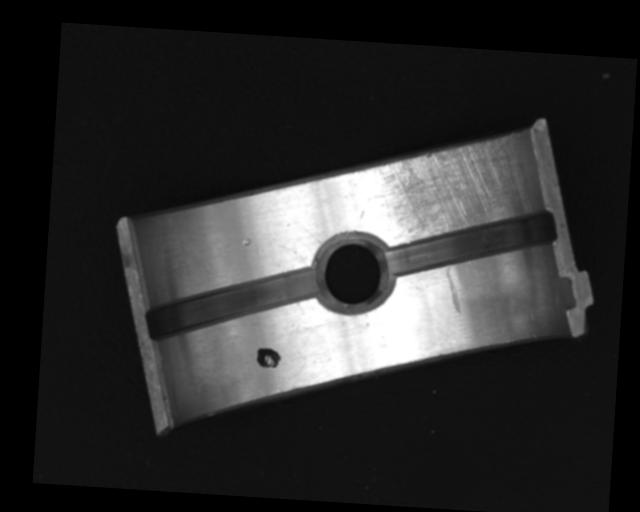blot: (254, 345, 282, 370)
bruise: (241, 236, 252, 248)
gap: (144, 255, 321, 351), (383, 201, 557, 285)
hole: (311, 231, 395, 316)
nick: (442, 263, 464, 315), (295, 219, 325, 245)
scratch: (362, 120, 536, 249)
